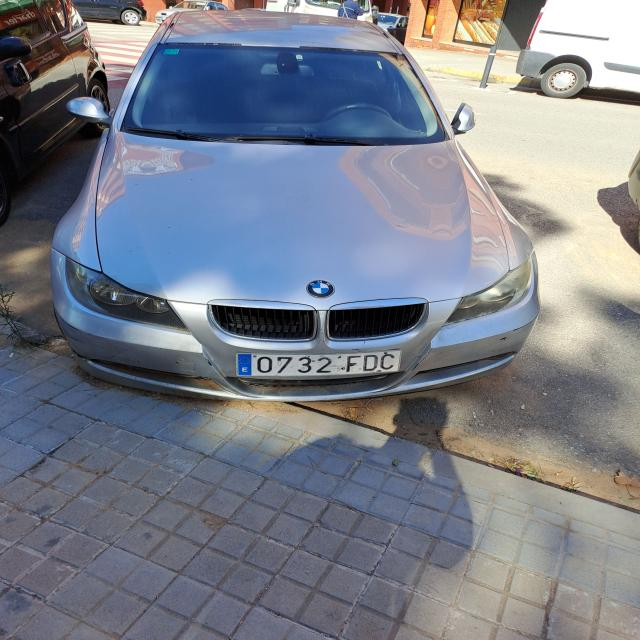license_plate-34Td: (236, 350, 401, 380)
